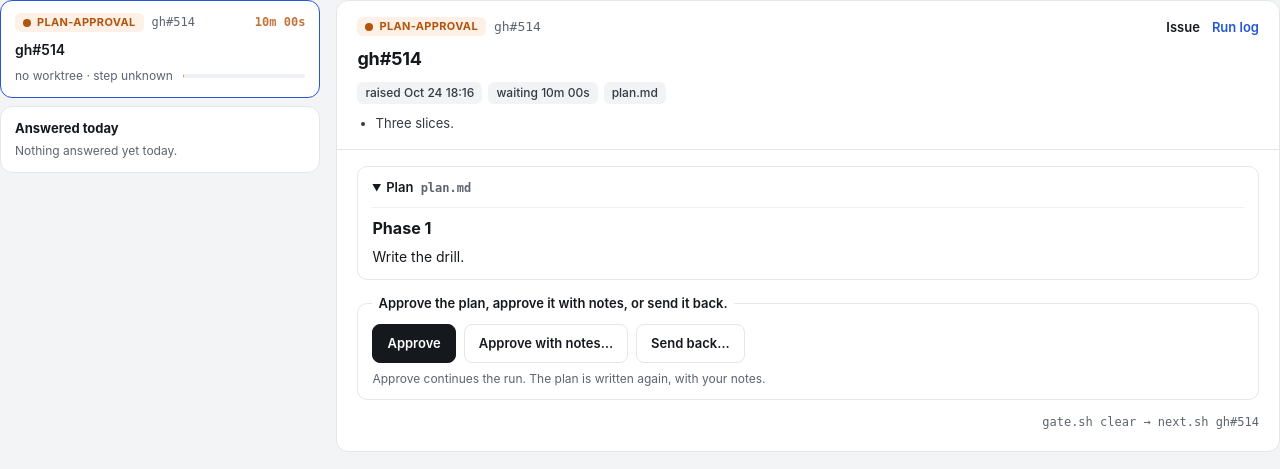
it: Answering_CardSaysSoAtOnce
Click the button "Approve".
click(414, 344)  # box [372,324,456,363]
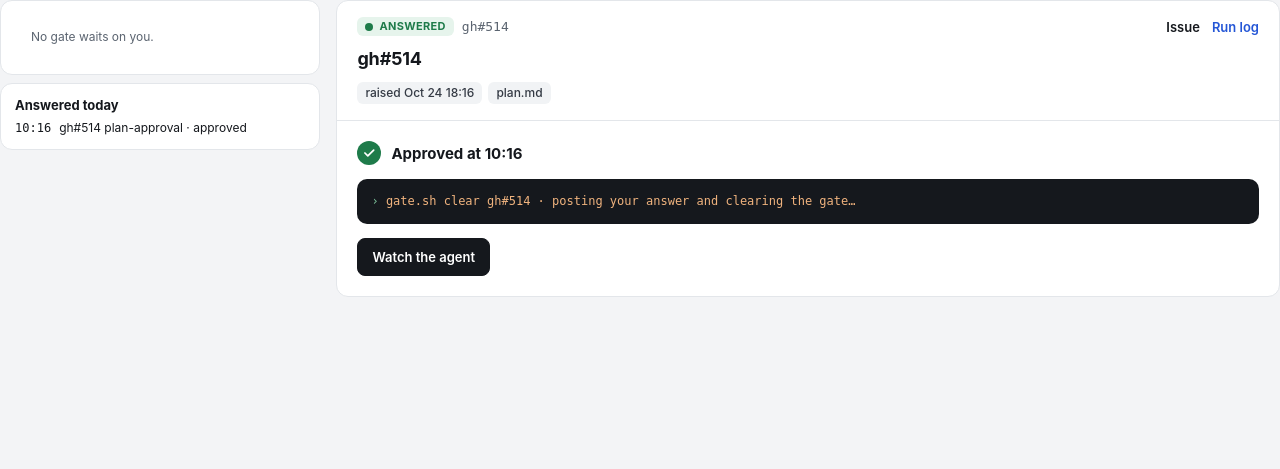
Result: the text "posting your answer and clearing the gate…" is shown at [386,194,856,208]
